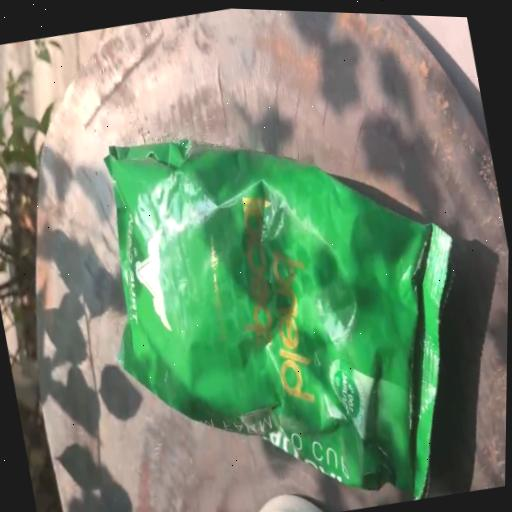cafe_xay: (105, 139, 453, 500)
